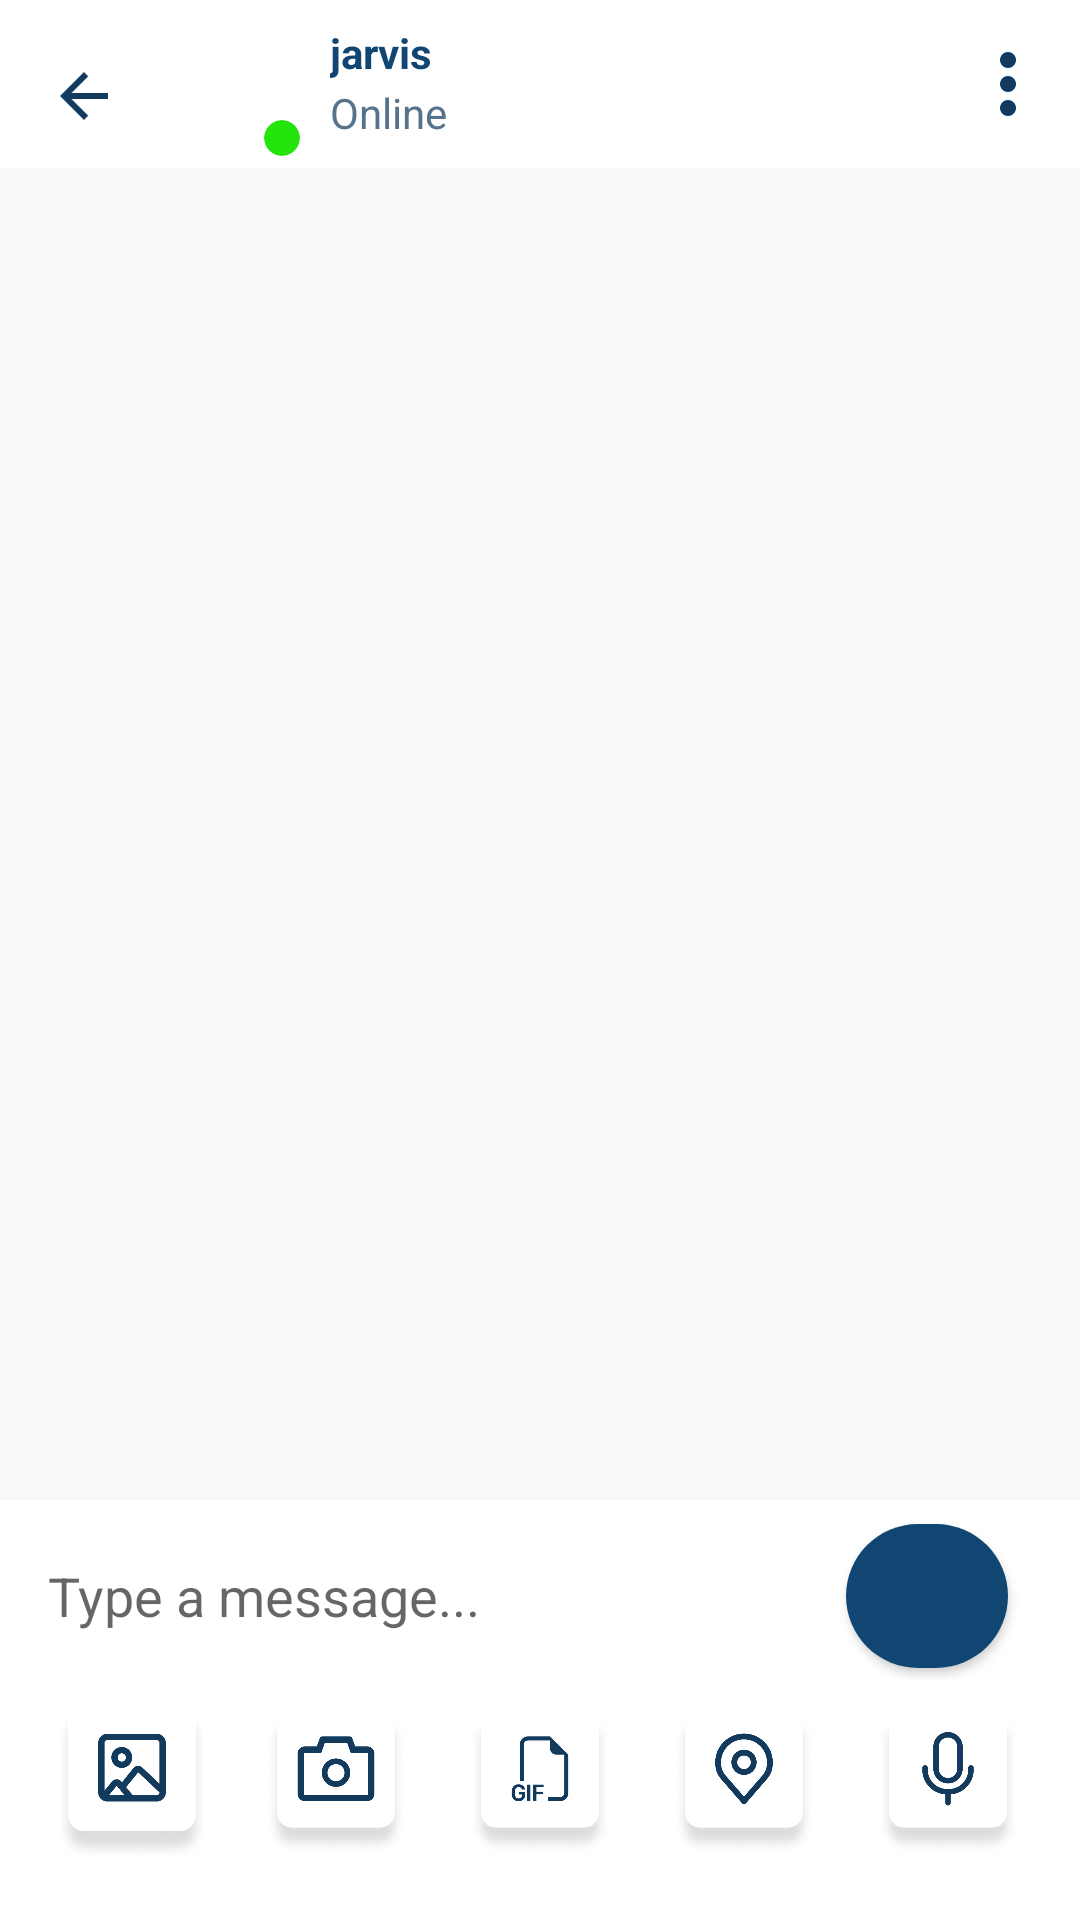

Named icons in this screenshot (1080px×1920px) and their bounding boxes, (x1, y1, x2, y2):
arrow back: (60, 72, 108, 120)
camera: (280, 1736, 392, 1840)
gallery: (71, 1734, 193, 1845)
geo: (688, 1733, 800, 1840)
mic: (892, 1732, 1004, 1840)
more vert: (1000, 52, 1016, 116)
